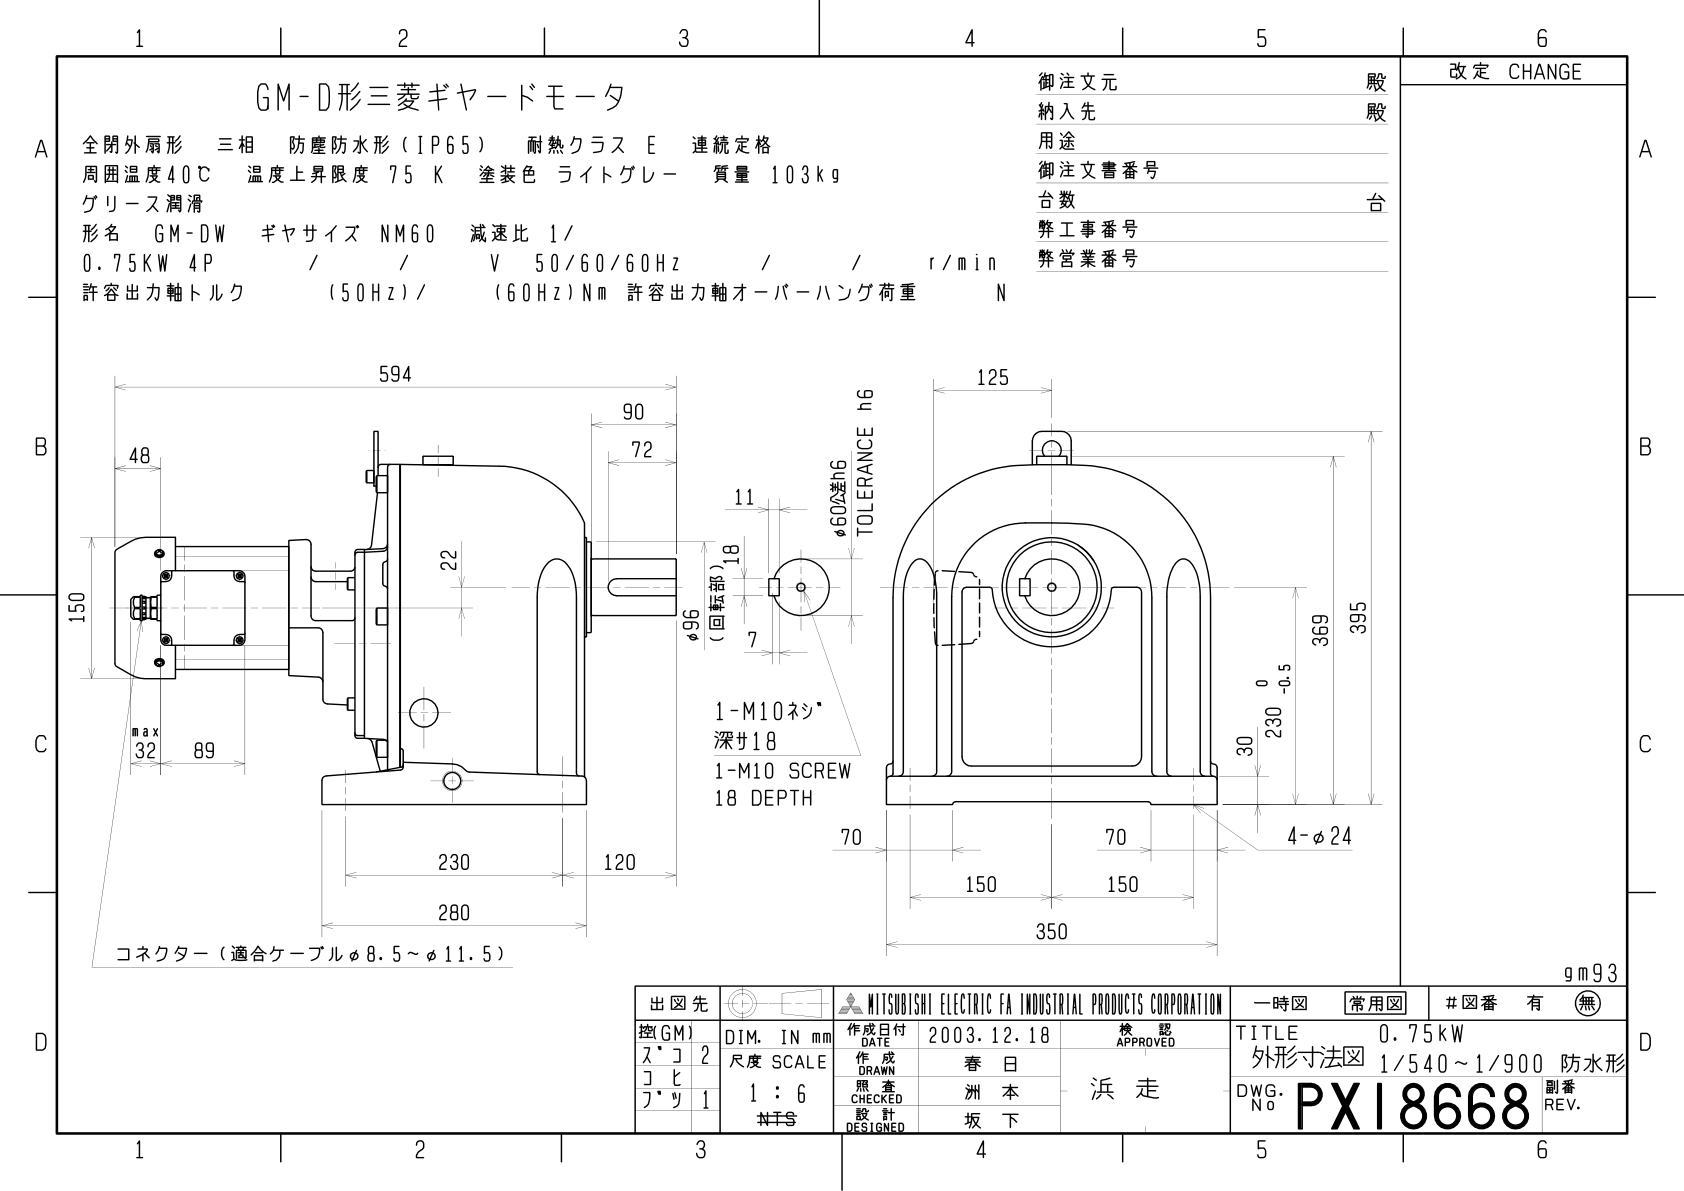GM_D_IP65_三相_脚: (61, 329, 1395, 955)
